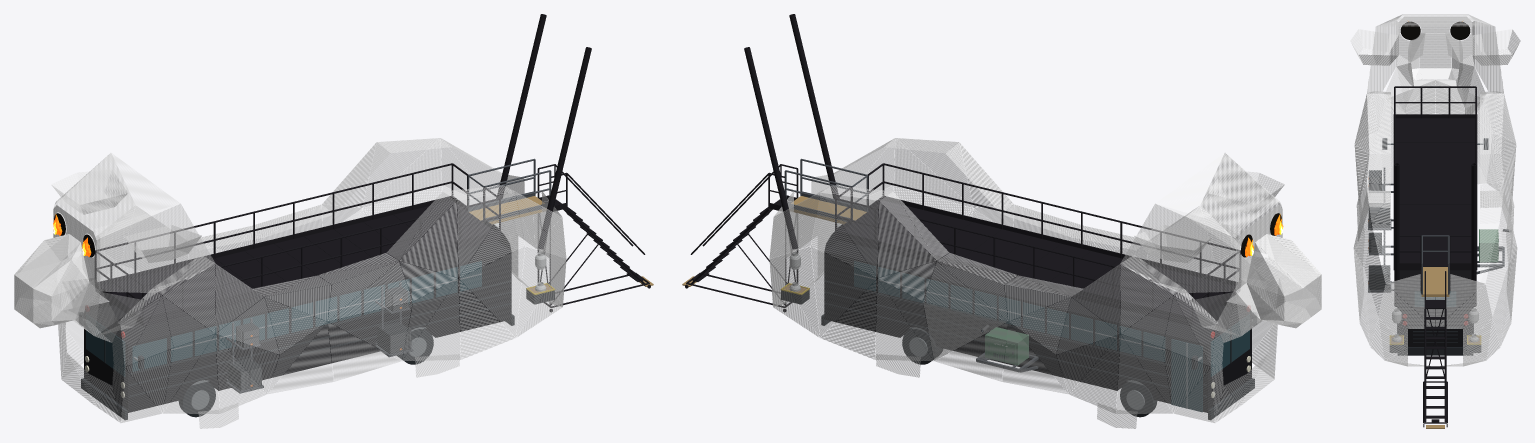
File: baaabs-panelized-v16.glb
The picture shows the model from 3 angles, left to right: view 1: azimuth 30°, elevation 25°; view 2: azimuth 150°, elevation 25°; view 3: azimuth 270°, elevation 25°; orthographic projection. The views are drawn at different scales.
Visible parts, largest first — view 1: Bus__Body_96in_wide, H-D-001 | Driver continuous side, H-C-002 | Center continuous rising crown, H-P-001 | Passenger continuous side, B-D-054 | Driver Skirt 07 b, B-D-050 | Driver Skirt 05 b, B-D-051 | Driver Skirt 06 a, B-D-043 | Driver Skirt 02 a, B-D-038 | Driver Flank 07 b, B-D-036 | Driver Flank 06 b, B-D-053 | Driver Skirt 07 a, B-D-049 | Driver Skirt 05 a (+73 smaller); view 2: Bus__Body_96in_wide, H-P-001 | Passenger continuous side, H-C-002 | Center continuous rising crown, H-D-001 | Driver continuous side, B-P-062 | Passenger Skirt 07 b, B-P-058 | Passenger Skirt 05 b, B-P-059 | Passenger Skirt 06 a, B-P-051 | Passenger Skirt 02 a, B-P-046 | Passenger Flank 07 b, B-P-044 | Passenger Flank 06 b, B-P-061 | Passenger Skirt 07 a, B-P-057 | Passenger Skirt 05 a (+75 smaller); view 3: Bus__Body_96in_wide, H-D-001 | Driver continuous side, H-P-001 | Passenger continuous side, H-C-002 | Center continuous rising crown, Bus__Rear_engine_hatch, Dancefloor_section_02, Dancefloor_section_01, Dancefloor_section_03, Dancefloor_section_04, B-D-059 | Driver Rear surround 06 a, B-P-015 | Passenger Rear surround 05 a, Dancefloor_section_07 (+113 smaller).
Part boxes in pixels (bbox=[...]): Bus__Body_96in_wide: bbox=[84, 240, 511, 412]; H-D-001 | Driver continuous side: bbox=[100, 204, 215, 293]; H-C-002 | Center continuous rising crown: bbox=[56, 153, 180, 228]; H-P-001 | Passenger continuous side: bbox=[55, 153, 133, 253]; B-D-054 | Driver Skirt 07 b: bbox=[459, 246, 524, 336]; B-D-050 | Driver Skirt 05 b: bbox=[329, 302, 412, 360]; B-D-051 | Driver Skirt 06 a: bbox=[403, 280, 460, 360]; B-D-043 | Driver Skirt 02 a: bbox=[163, 335, 219, 413]; B-D-038 | Driver Flank 07 b: bbox=[457, 193, 514, 276]; B-D-036 | Driver Flank 06 b: bbox=[399, 201, 458, 277]; B-D-053 | Driver Skirt 07 a: bbox=[458, 279, 515, 359]; B-D-049 | Driver Skirt 05 a: bbox=[328, 322, 400, 381]; Bus__Body_96in_wide: bbox=[824, 240, 1251, 412]; H-P-001 | Passenger continuous side: bbox=[1120, 204, 1235, 293]; H-C-002 | Center continuous rising crown: bbox=[1155, 153, 1279, 228]; H-D-001 | Driver continuous side: bbox=[1202, 153, 1280, 253]; B-P-062 | Passenger Skirt 07 b: bbox=[811, 246, 876, 336]; B-P-058 | Passenger Skirt 05 b: bbox=[923, 302, 1007, 360]; B-P-059 | Passenger Skirt 06 a: bbox=[875, 280, 932, 360]; B-P-051 | Passenger Skirt 02 a: bbox=[1116, 335, 1172, 413]; B-P-046 | Passenger Flank 07 b: bbox=[821, 193, 878, 276]; B-P-044 | Passenger Flank 06 b: bbox=[877, 201, 936, 277]; B-P-061 | Passenger Skirt 07 a: bbox=[820, 279, 877, 359]; B-P-057 | Passenger Skirt 05 a: bbox=[935, 322, 1007, 381]; Bus__Body_96in_wide: bbox=[1398, 270, 1472, 346]; H-D-001 | Driver continuous side: bbox=[1367, 21, 1396, 93]; H-P-001 | Passenger continuous side: bbox=[1474, 21, 1503, 93]; H-C-002 | Center continuous rising crown: bbox=[1376, 14, 1494, 26]; Bus__Rear_engine_hatch: bbox=[1408, 321, 1462, 346]; Dancefloor_section_02: bbox=[1393, 130, 1477, 142]; Dancefloor_section_01: bbox=[1393, 118, 1477, 130]; Dancefloor_section_03: bbox=[1393, 143, 1477, 155]; Dancefloor_section_04: bbox=[1393, 155, 1477, 167]; B-D-059 | Driver Rear surround 06 a: bbox=[1386, 274, 1435, 326]; B-P-015 | Passenger Rear surround 05 a: bbox=[1435, 274, 1484, 326]; Dancefloor_section_07: bbox=[1393, 192, 1477, 204].
Bounding box in the file's own units: 19.95 × 8.42 × 5.52.
232 materials, 207 textured.
